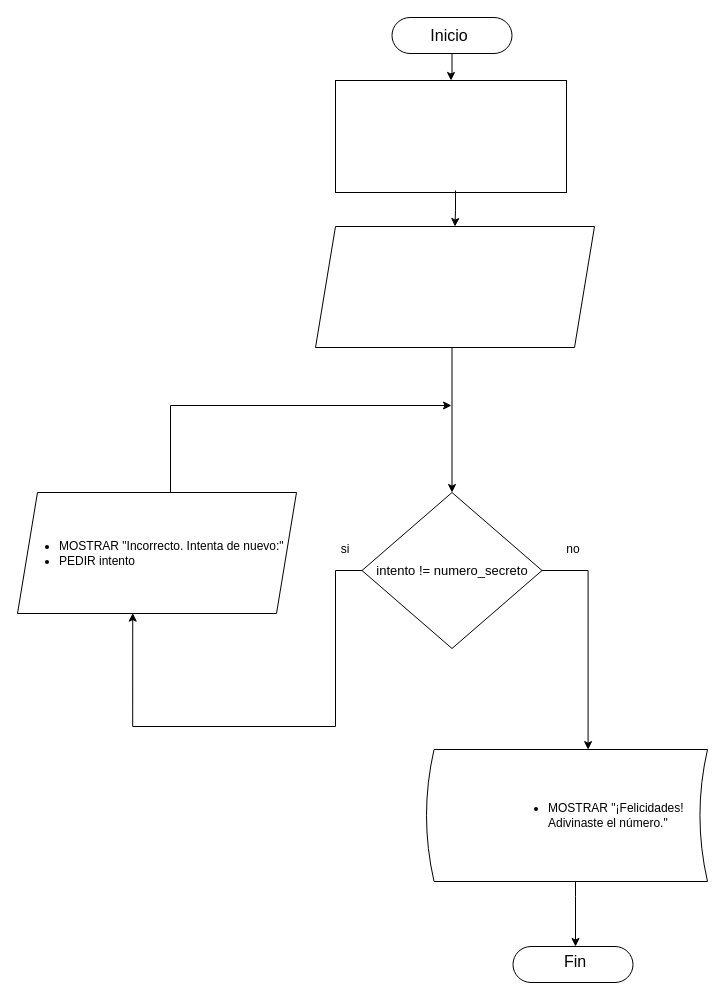
Image size: 725x1000. Some labels were removed from this diagram. The shapes that lost their labels are listed below. From the top down, each one's centre as x and y in pixels, then its label:
(x=450, y=136): DEFINIR numero_secreto = 7 DEFINIR intento
(x=454, y=287): MOSTRAR "Adivina el número secreto (1 al 10):" PEDIR intento
